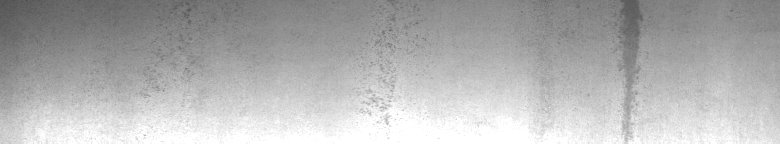ib: (136, 4, 200, 100)
